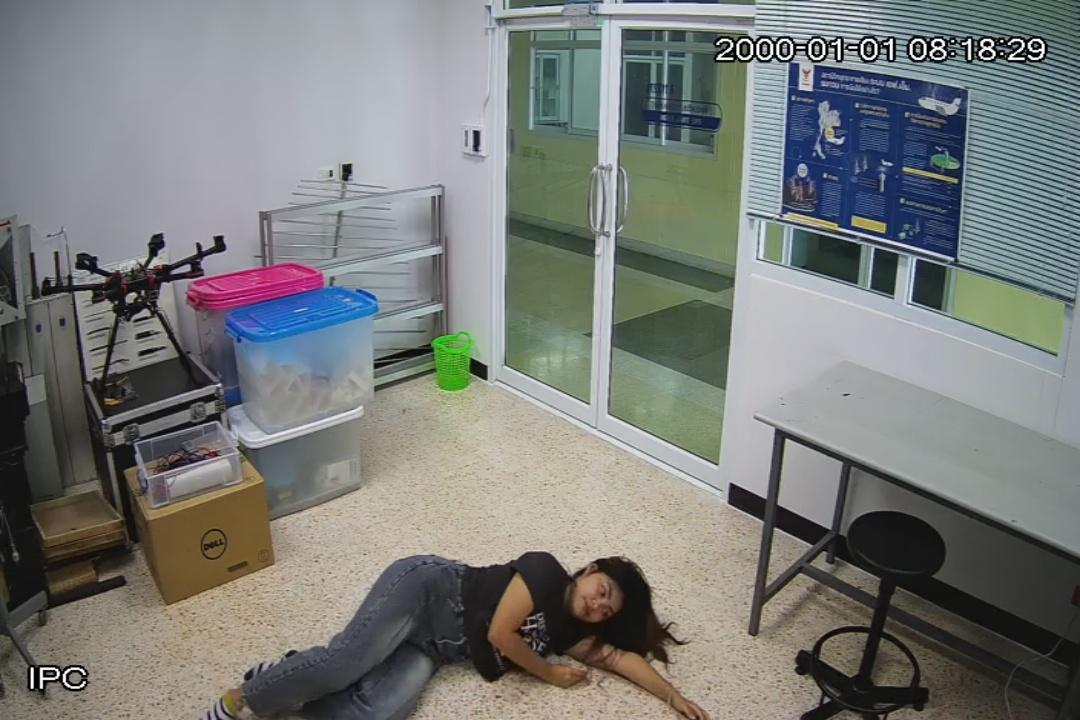fall: (196, 546, 711, 720)
